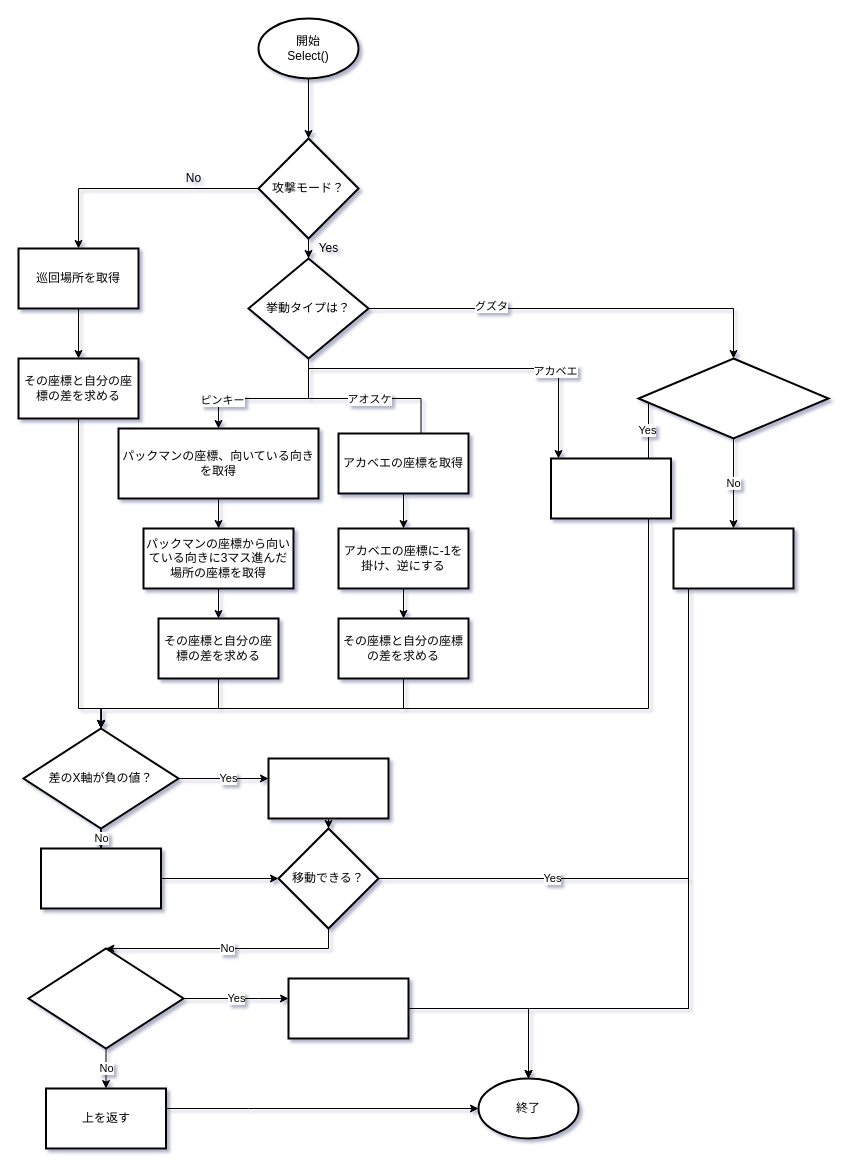
The diagram is 852 pixels wide and 1172 high, and some of its shapes have lost their labels. Here are the shapes that lost their labels. From the top down, the centre of each, then its label:
[733,398]: パックマンと離れすぎている？
[611,488]: パックマンの座標と自分の座標の差を求める
[733,558]: 移動可能な方向をランダムに選ぶ
[328,788]: 左を返す
[101,878]: 右を返す
[105,998]: 差のY軸が負の値？
[348,1008]: 下を返す
